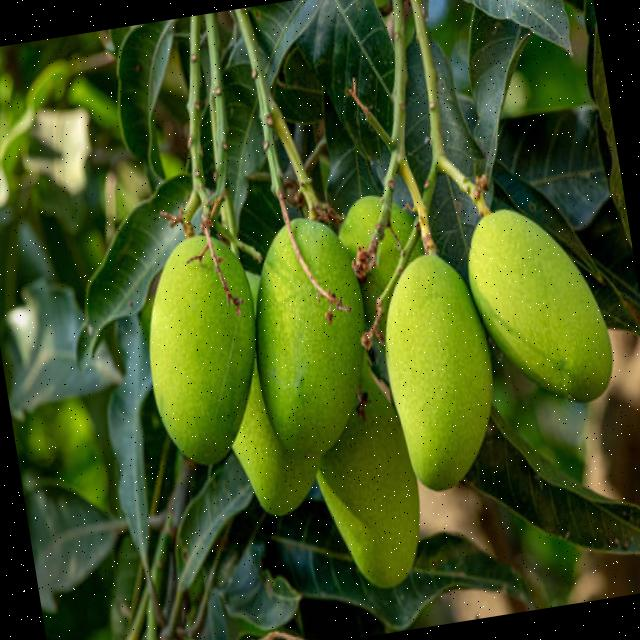mango: (468, 209, 613, 401), (257, 218, 365, 455), (385, 254, 492, 490), (150, 234, 256, 463), (317, 360, 419, 587), (233, 362, 319, 515)
